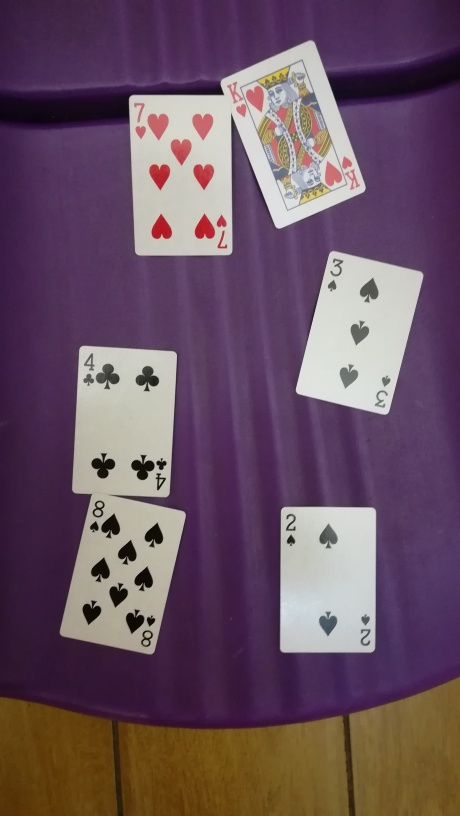ht 2: (281, 505, 380, 661)
ht 3: (291, 243, 428, 426)
ht 8: (57, 496, 191, 660)
hx 7: (119, 84, 242, 261)
hx k: (222, 30, 367, 230)
mh 4: (56, 333, 177, 497)
